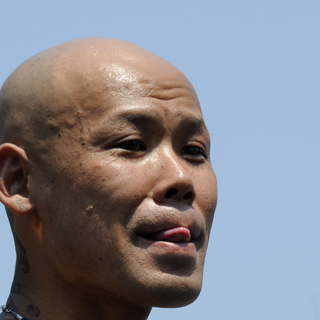eye: (103, 130, 152, 163), (173, 133, 214, 171)
